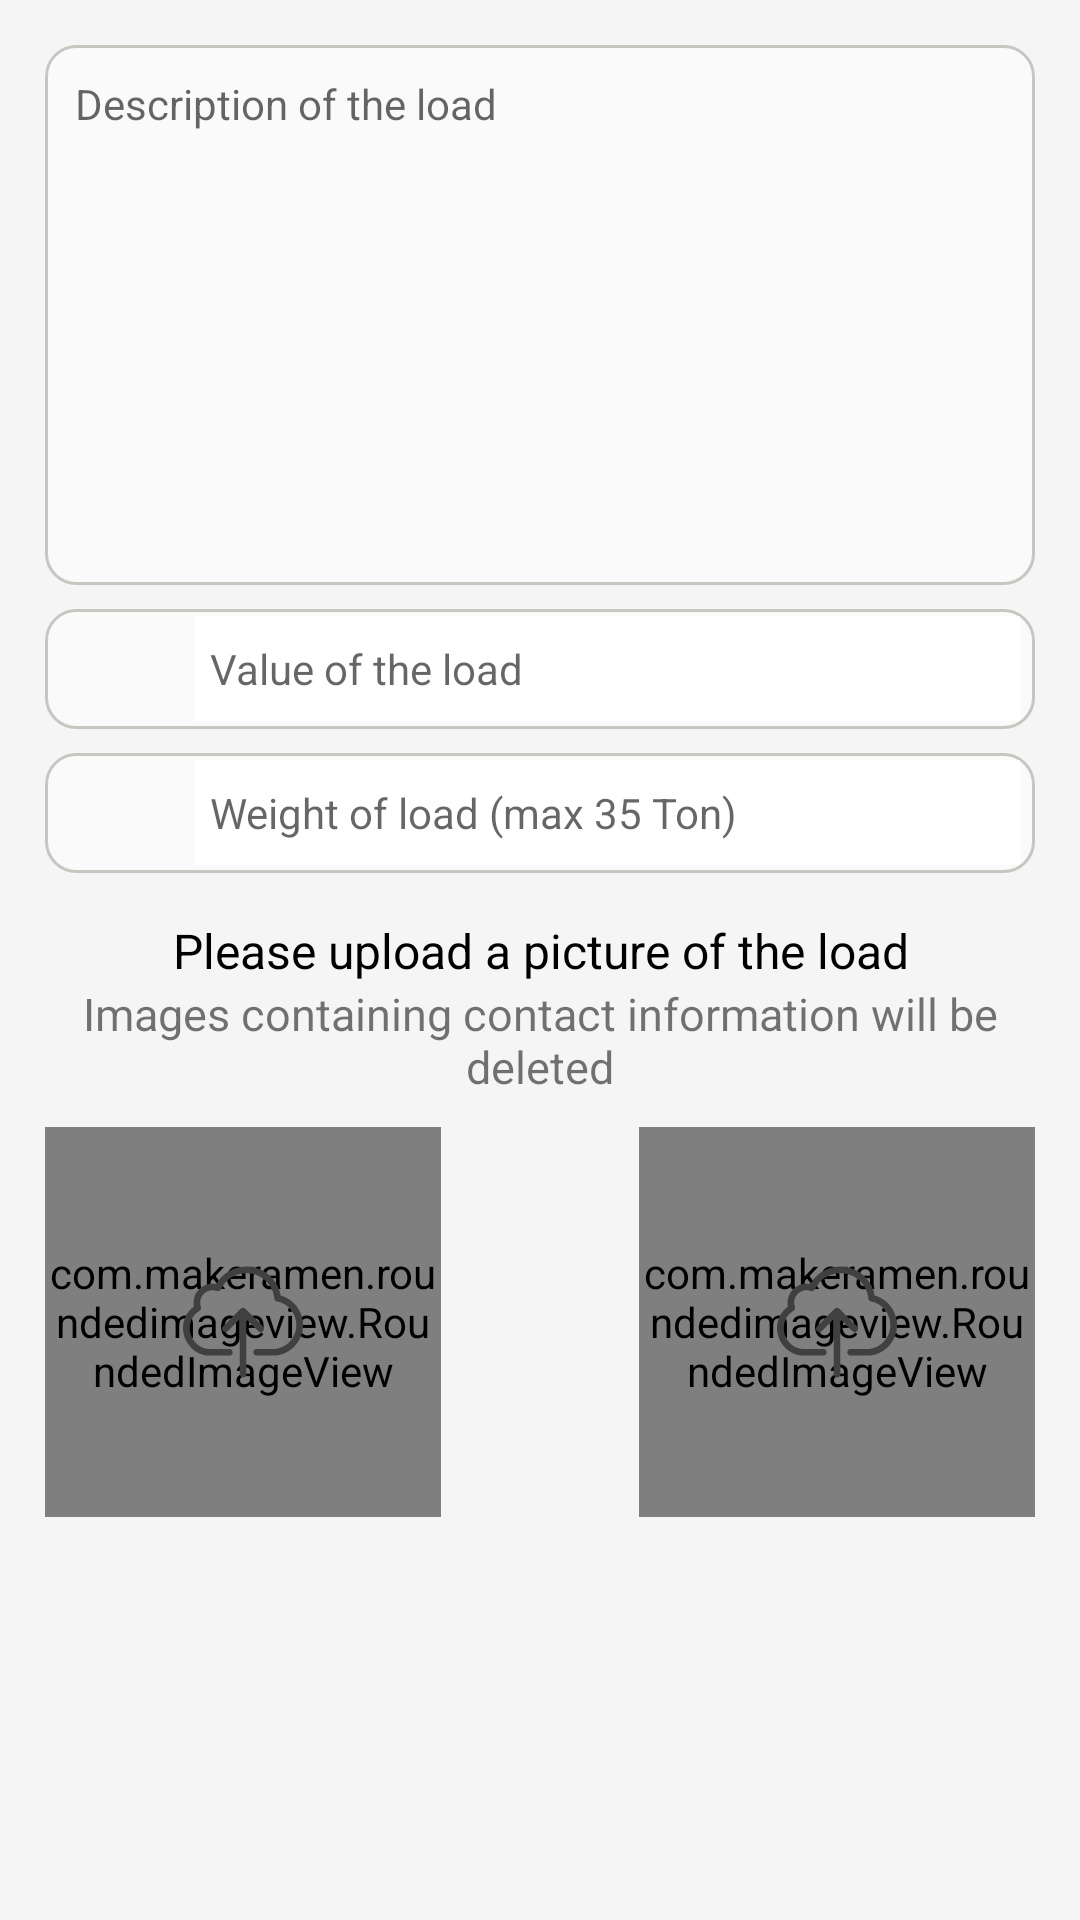

Locate icon controls on the screen. Image size 1080px×1920px, boxes as bbox=(x1, y1, x2, y2).
upload: bbox=(168, 1257, 318, 1396), bbox=(762, 1257, 912, 1396)
